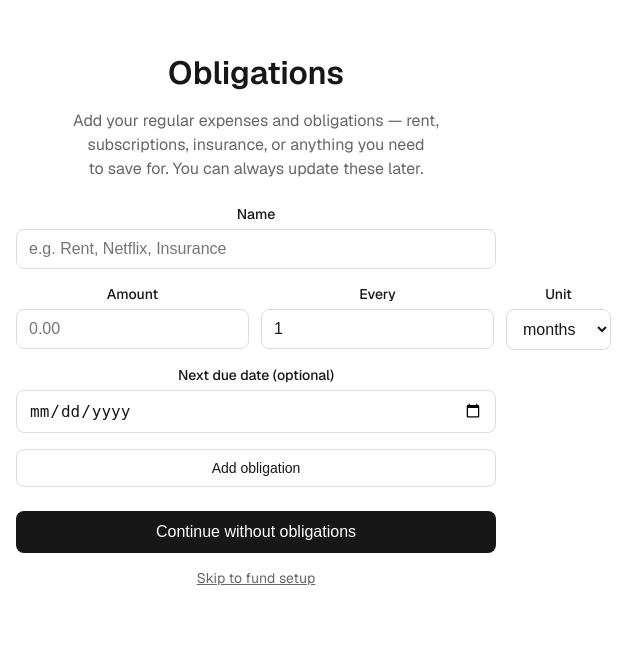
it: OnboardingManualObligationsPage › adds an obligation entry when the form is submitted with valid data
Type "Rent" into the field labelled "Name" at (256, 248), box 16,228 -> 496,268
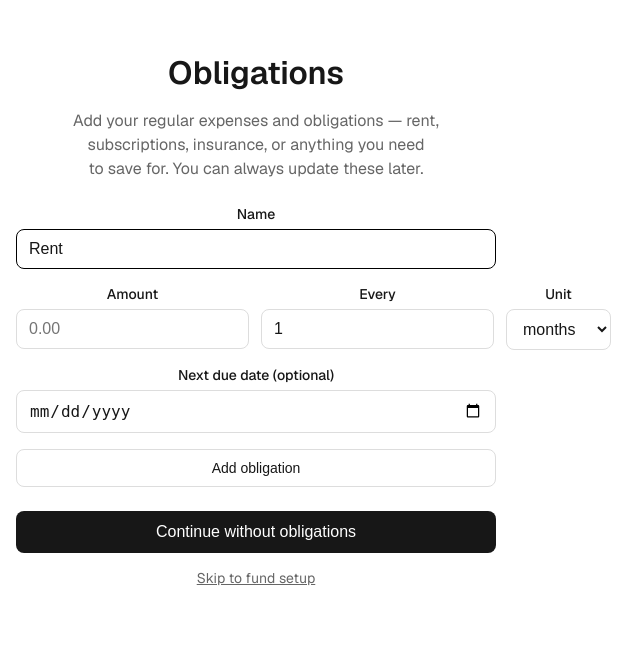
Type "1500" into the number field labelled "Amount" at (132, 328), box 16,308 -> 249,348
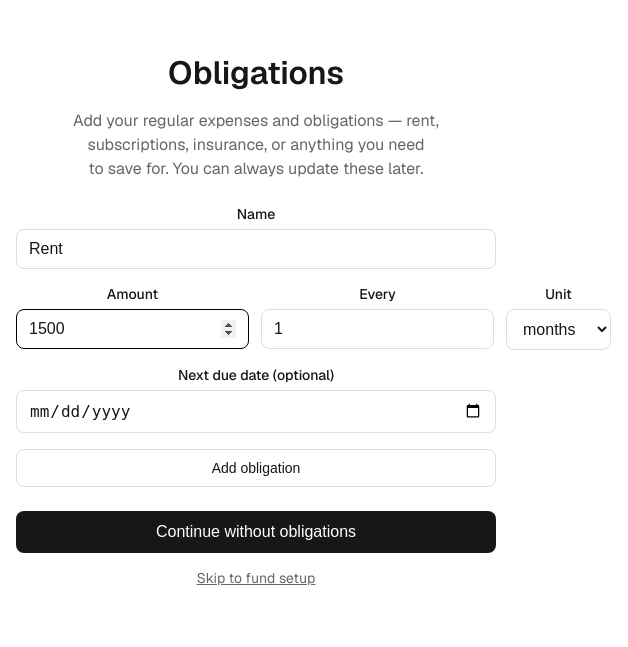
Click the button "Add obligation" at (256, 468), box 16,448 -> 496,486
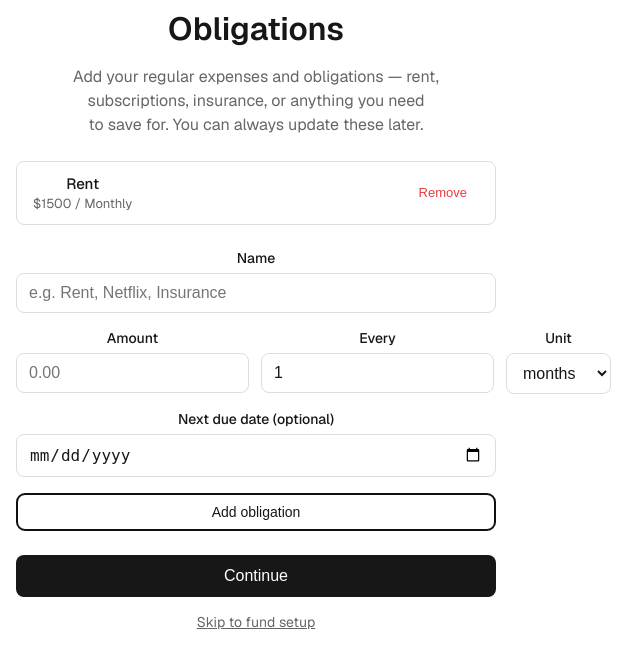
Expected: the text "Rent" is shown, 66,174 -> 99,192
Expected: the text "$1500 / Monthly" is shown, 33,194 -> 132,212
